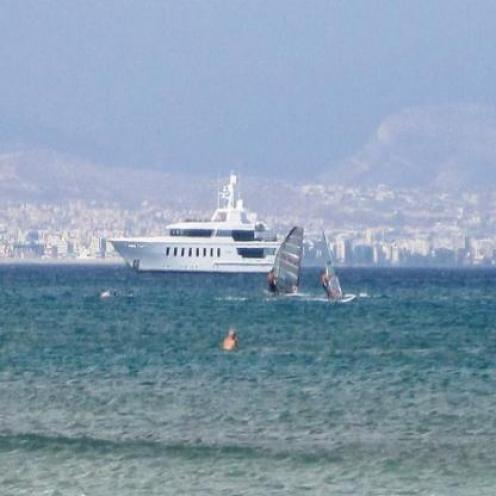Ship: (89, 194, 309, 276)
